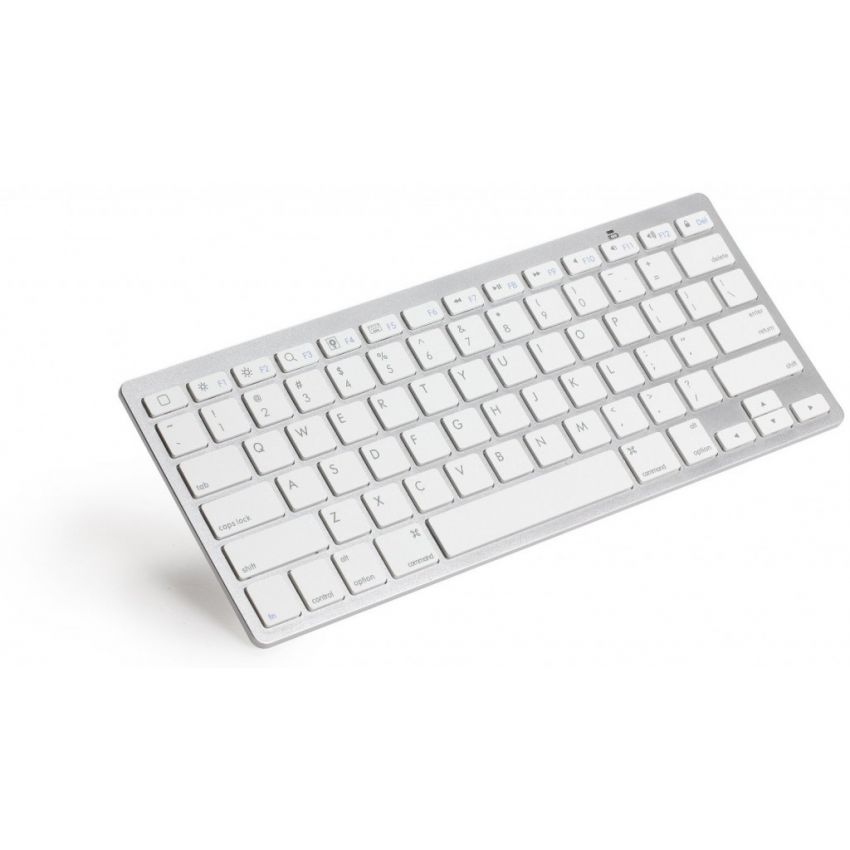keyboard: (116, 184, 850, 668)
